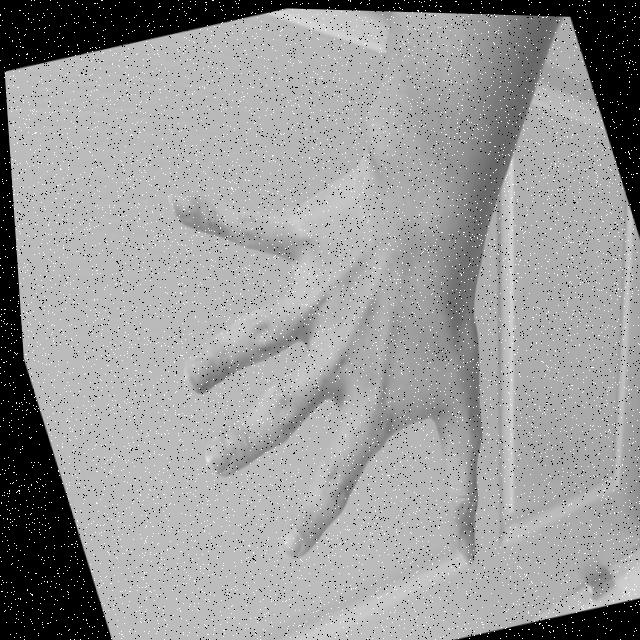hand: (116, 127, 531, 619)
